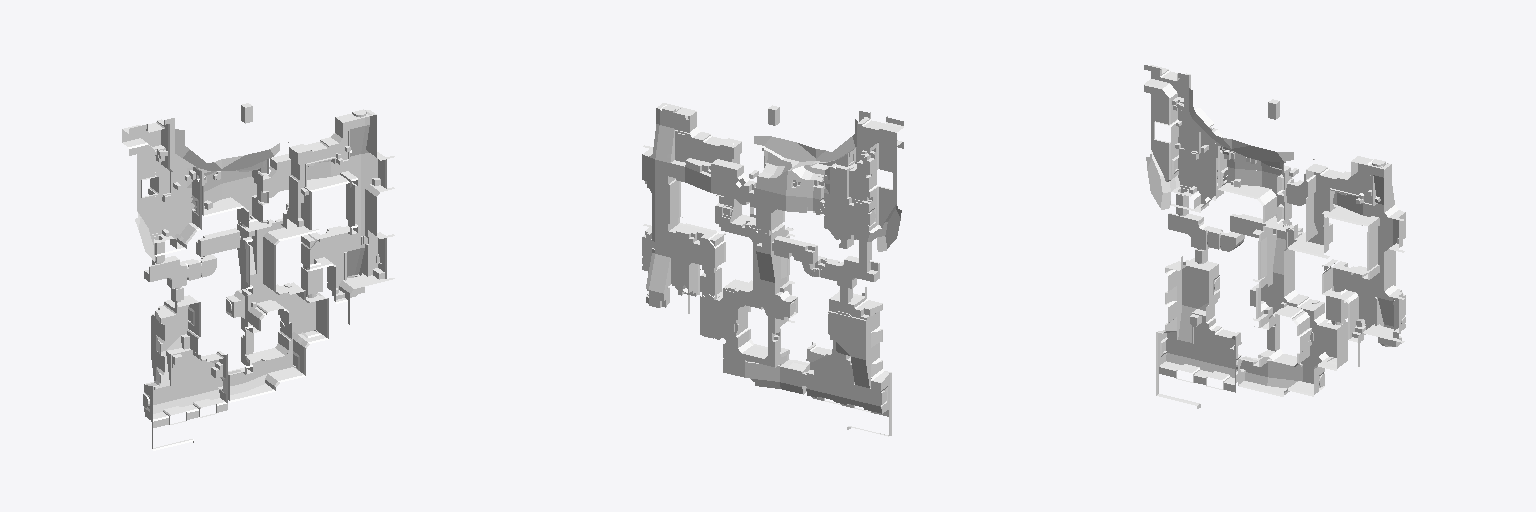
Rendered from de_dust2 - Copy.obj.
3 renders of one model, left to right at view 1: azimuth 30°, elevation 25°; view 2: azimuth 150°, elevation 25°; view 3: azimuth 330°, elevation 25°, orthographic.
Visible parts, largest first — view 1: BSP_Object.model_0; view 2: BSP_Object.model_0; view 3: BSP_Object.model_0.
Part boxes in pixels (x1,y1,x2,y2): BSP_Object.model_0: (122, 103, 394, 450); BSP_Object.model_0: (642, 103, 903, 436); BSP_Object.model_0: (1144, 65, 1405, 408).
Size of the model in its own units: 4480 by 5312 by 608.